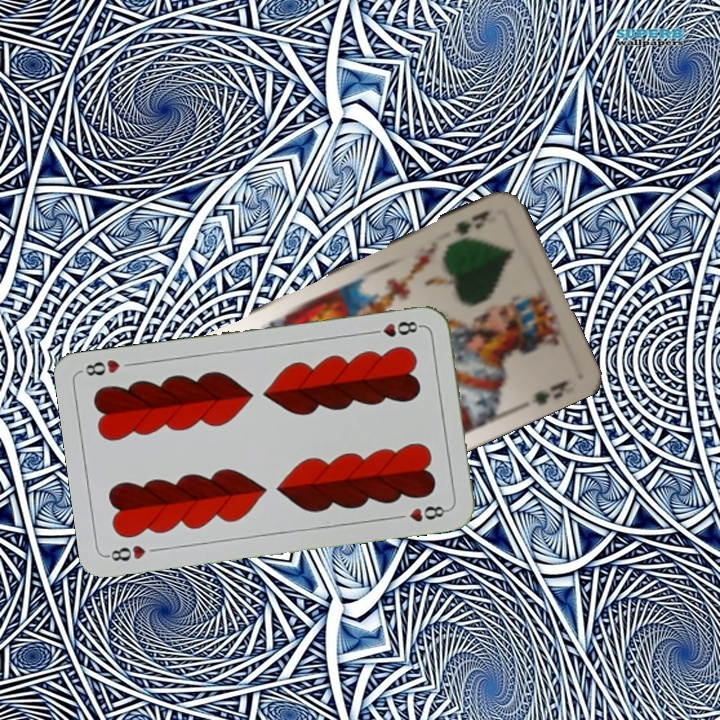GK: (449, 206, 493, 237)
H8: (366, 317, 425, 340), (103, 541, 148, 564)
